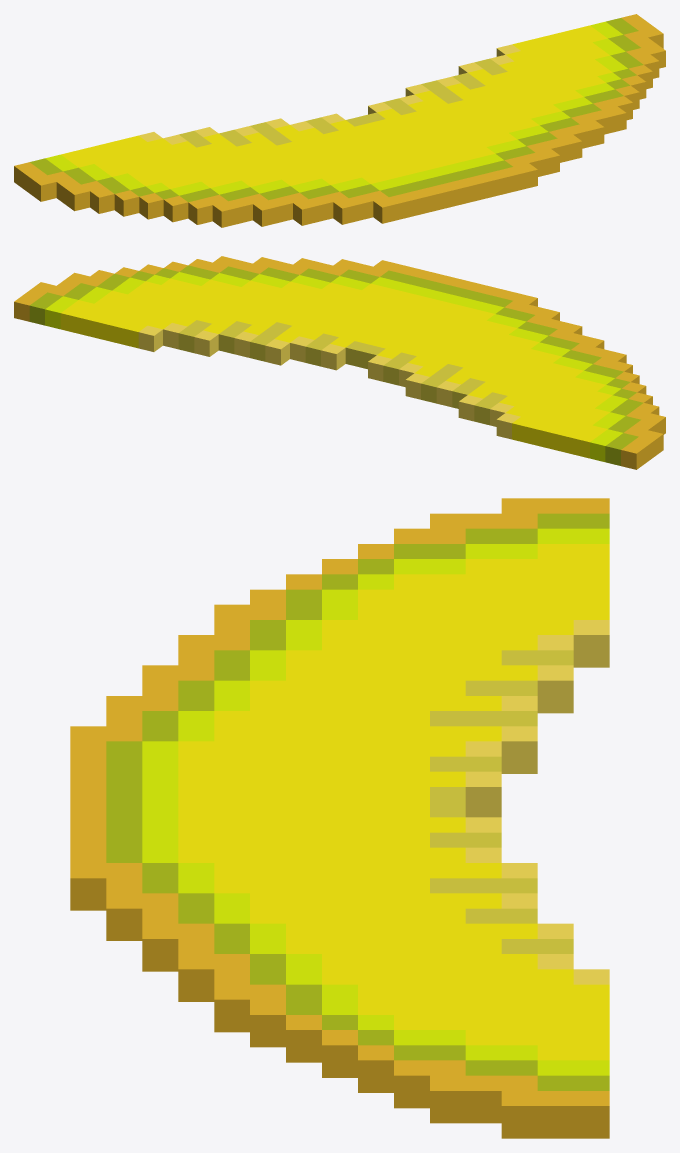
Rendered from Melon.obj.
3 renders of one model, top to bottom at view 1: azimuth 30°, elevation 25°; view 2: azimuth 150°, elevation 25°; view 3: azimuth 270°, elevation 25°, orthographic. The views are drawn at different scales.
Parts seen in each view (by area): view 1: Melon; view 2: Melon; view 3: Melon.
Part boxes in pixels (left/top/right/bottom): Melon: left=14, top=14, right=665, bottom=227; Melon: left=14, top=256, right=665, bottom=469; Melon: left=70, top=498, right=609, bottom=1138.
Bounding box in the file's own units: 40 × 1 × 15.
Materials: 1 (1 with a texture image).
